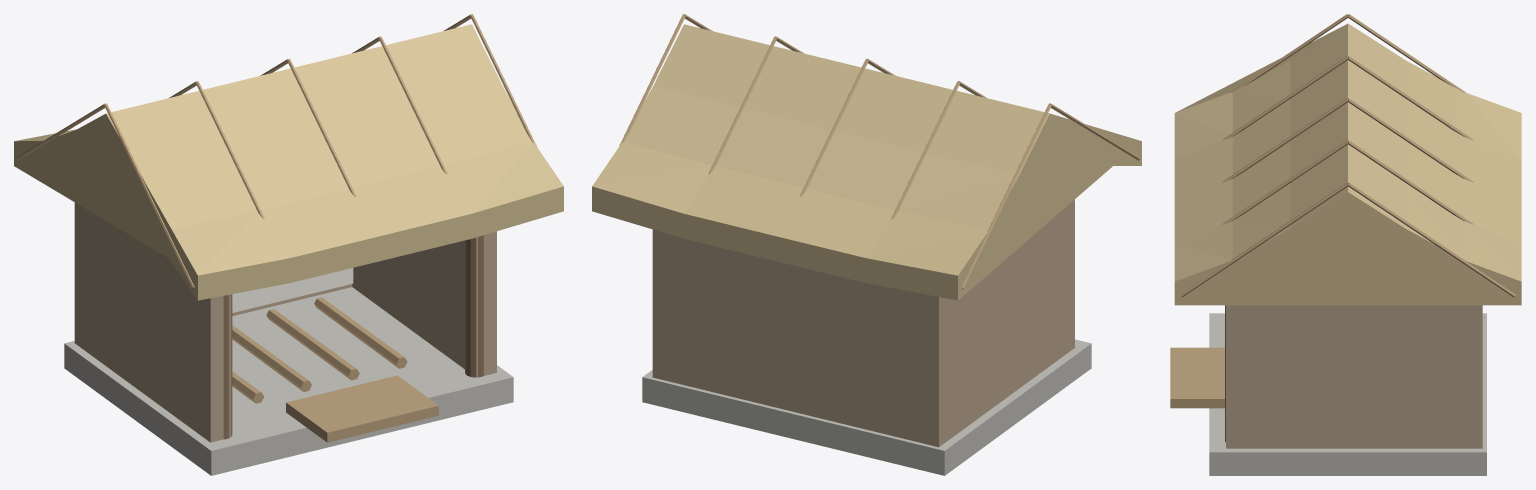
The model's file is korean-hanok-village-and-street-thatched-outbuilding-d60d046d__38057.glb.
The picture shows the model from 3 angles, left to right: view 1: azimuth 30°, elevation 25°; view 2: azimuth 150°, elevation 25°; view 3: azimuth 270°, elevation 25°; orthographic projection. The views are drawn at different scales.
Parts seen in each view (by area): view 1: thatched-outbuilding; view 2: thatched-outbuilding; view 3: thatched-outbuilding.
Part boxes in pixels (<box>): thatched-outbuilding: <box>14,14,563,475</box>; thatched-outbuilding: <box>592,14,1141,475</box>; thatched-outbuilding: <box>1170,14,1521,475</box>.
Size of the model in its own units: 4.64 by 3.92 by 4.05.
